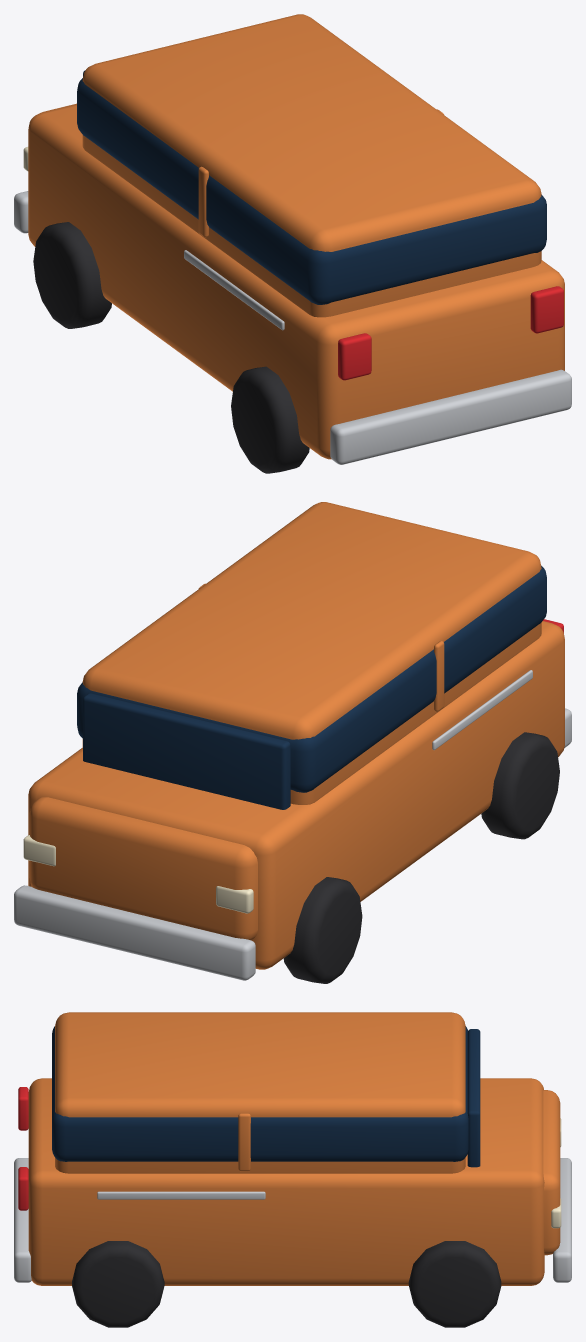
Rendered from minivan-orange.glb.
3 renders of one model, top to bottom at view 1: azimuth 30°, elevation 25°; view 2: azimuth 150°, elevation 25°; view 3: azimuth 270°, elevation 25°, orthographic. The views are drawn at different scales.
Parts seen in each view (by area): view 1: Van_Cabin, Van_Body, Van_GlassBand, Van_BumpR, Wheel_van2, Wheel_van0, Van_Tail_0, Van_Tail_1, Van_SlideRail_-1, Van_Bpil_-1, Van_BumpF; view 2: Van_Cabin, Van_Body, Van_Nose, Van_Windshield, Van_GlassBand, Van_BumpF, Wheel_van2, Wheel_van0, Van_SlideRail_-1, Van_Light_0, Van_Light_1, Van_Bpil_-1; view 3: Van_Body, Van_Cabin, Van_GlassBand, Wheel_van1, Wheel_van3, Van_Nose, Van_Windshield, Van_BumpF, Van_SlideRail_+1, Van_BumpR, Van_Bpil_+1, Van_Tail_0 (+1 smaller).
Boxes of the visible parts, bbox=[...] form: Van_Cabin: bbox=[82, 14, 541, 317]; Van_Body: bbox=[28, 104, 564, 459]; Van_GlassBand: bbox=[77, 78, 546, 304]; Van_BumpR: bbox=[330, 369, 571, 464]; Wheel_van2: bbox=[231, 366, 309, 473]; Wheel_van0: bbox=[33, 222, 111, 328]; Van_Tail_0: bbox=[338, 333, 371, 380]; Van_Tail_1: bbox=[530, 286, 563, 333]; Van_SlideRail_-1: bbox=[184, 250, 284, 330]; Van_Bpil_-1: bbox=[198, 166, 208, 237]; Van_BumpF: bbox=[14, 191, 28, 233]; Van_Cabin: bbox=[82, 502, 541, 804]; Van_Body: bbox=[28, 621, 564, 969]; Van_Nose: bbox=[29, 797, 257, 940]; Van_Windshield: bbox=[83, 693, 290, 809]; Van_GlassBand: bbox=[77, 565, 546, 792]; Van_BumpF: bbox=[14, 885, 255, 980]; Wheel_van2: bbox=[481, 732, 559, 839]; Wheel_van0: bbox=[283, 877, 362, 983]; Van_SlideRail_-1: bbox=[432, 670, 532, 750]; Van_Light_0: bbox=[216, 886, 253, 913]; Van_Light_1: bbox=[23, 835, 55, 866]; Van_Bpil_-1: bbox=[434, 641, 444, 711]; Van_Body: bbox=[28, 1078, 544, 1285]; Van_Cabin: bbox=[55, 1012, 465, 1173]; Van_GlassBand: bbox=[52, 1026, 468, 1161]; Wheel_van1: bbox=[408, 1241, 501, 1327]; Wheel_van3: bbox=[72, 1241, 164, 1327]; Van_Nose: bbox=[543, 1090, 560, 1255]; Van_Windshield: bbox=[467, 1029, 480, 1167]; Van_BumpF: bbox=[553, 1158, 571, 1282]; Van_SlideRail_+1: bbox=[97, 1191, 265, 1199]; Van_BumpR: bbox=[14, 1158, 31, 1282]; Van_Bpil_+1: bbox=[238, 1113, 250, 1171]; Van_Tail_0: bbox=[18, 1087, 28, 1130].
Size of the model in its own units: 2.65 by 2.26 by 5.3.
